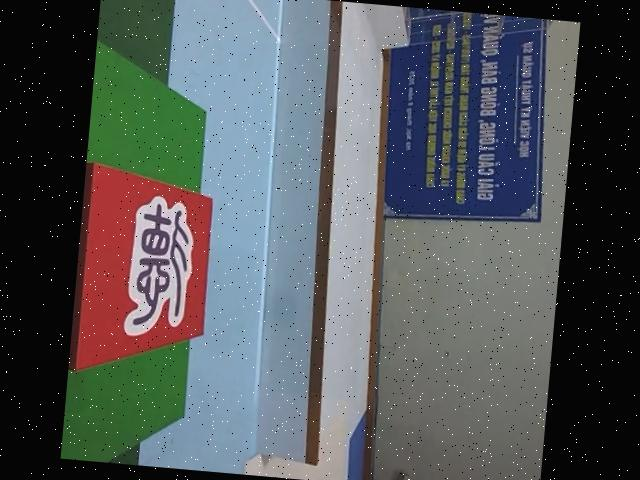R2 Fake: (68, 161, 221, 382)
